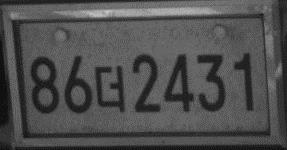1: (229, 51, 261, 112)
2: (131, 52, 162, 113)
3: (193, 51, 227, 112)
4: (162, 52, 195, 113)
6: (62, 55, 93, 114)
8: (29, 55, 60, 115)
더: (93, 64, 126, 114)
